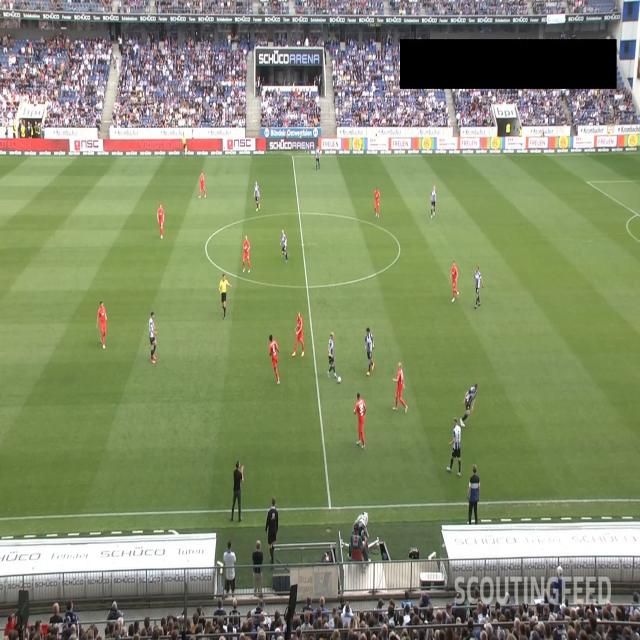ball: (337, 376, 342, 384)
